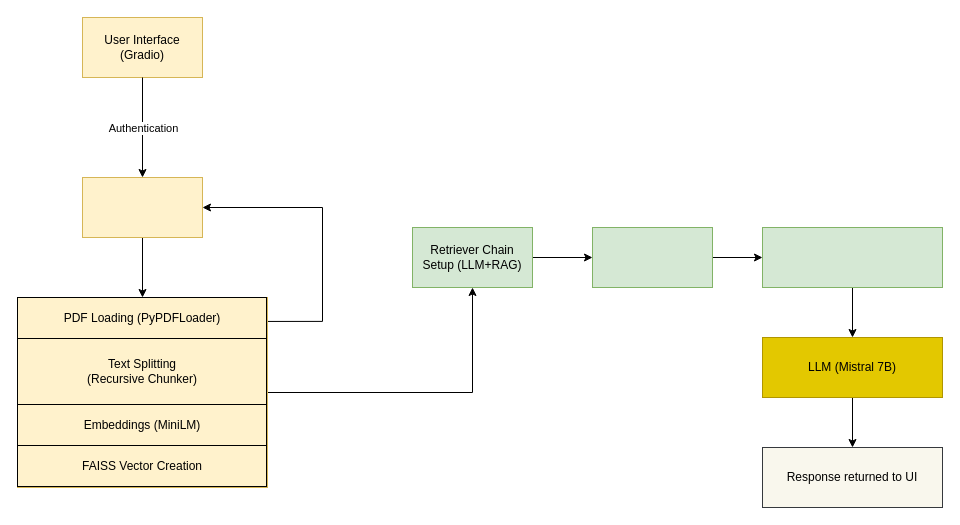
This 960x525 diagram has some shape labels left out. The centre of each missing label's shape, as x and y in pixels:
Chat I/P Handler: the point at 652,257
History-Aware Retrieval via LangChain: the point at 852,257
PDF Upload + Ingestion Handler: the point at 142,207
